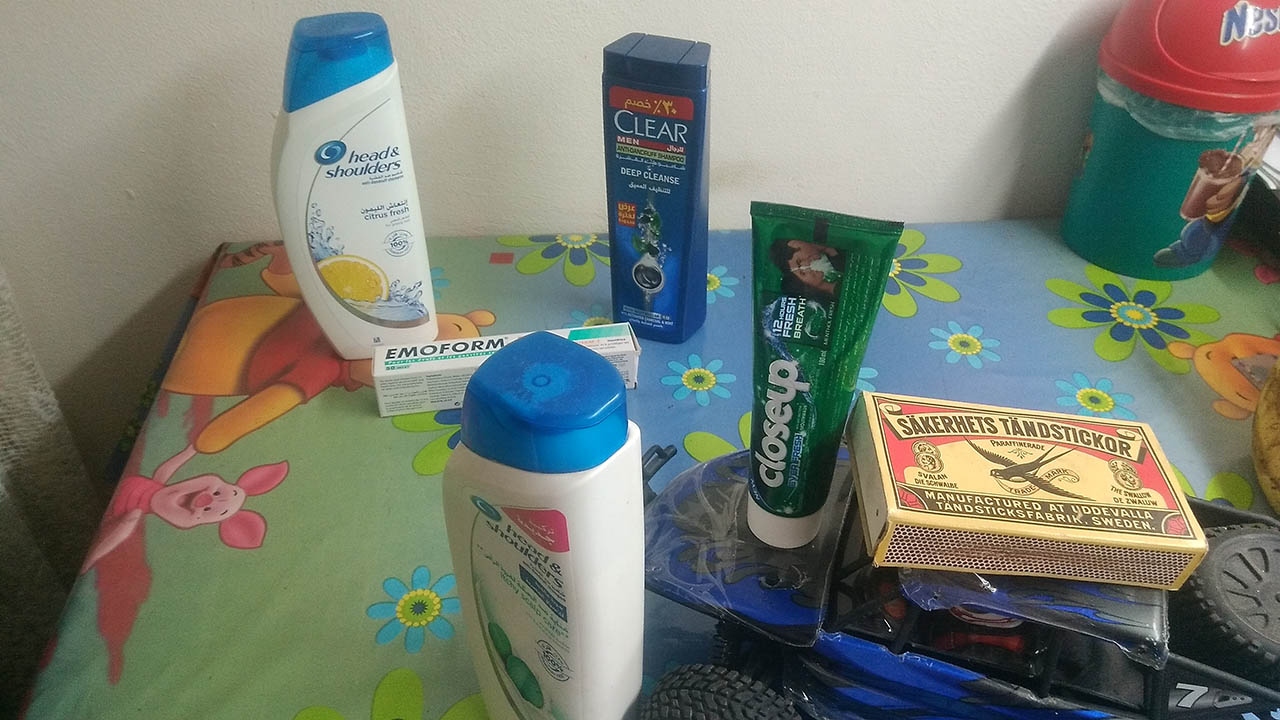Shampoo-Clear 4.7$: (589, 27, 721, 341)
Toothpaste-Closeup 3.04$: (739, 191, 876, 558)
Toothpaste-F 1.5$: (351, 330, 656, 396)
match-sticks .90$: (865, 386, 1210, 595)
shampoo-Lemon 3.5$: (249, 7, 455, 352)
shampoo-green 4.5$: (457, 348, 639, 720)
